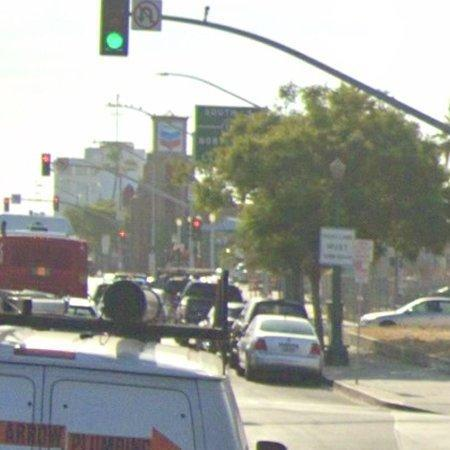traffic lights: (99, 0, 129, 56)
